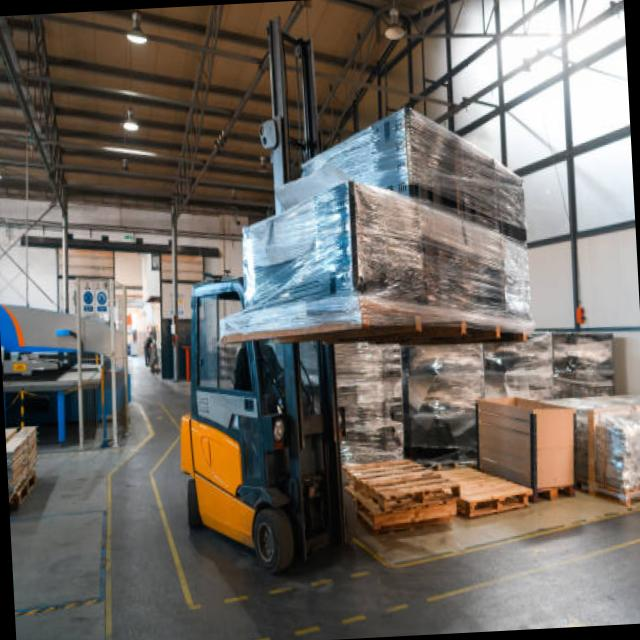Wooden-Pallets: (461, 478, 535, 532)
